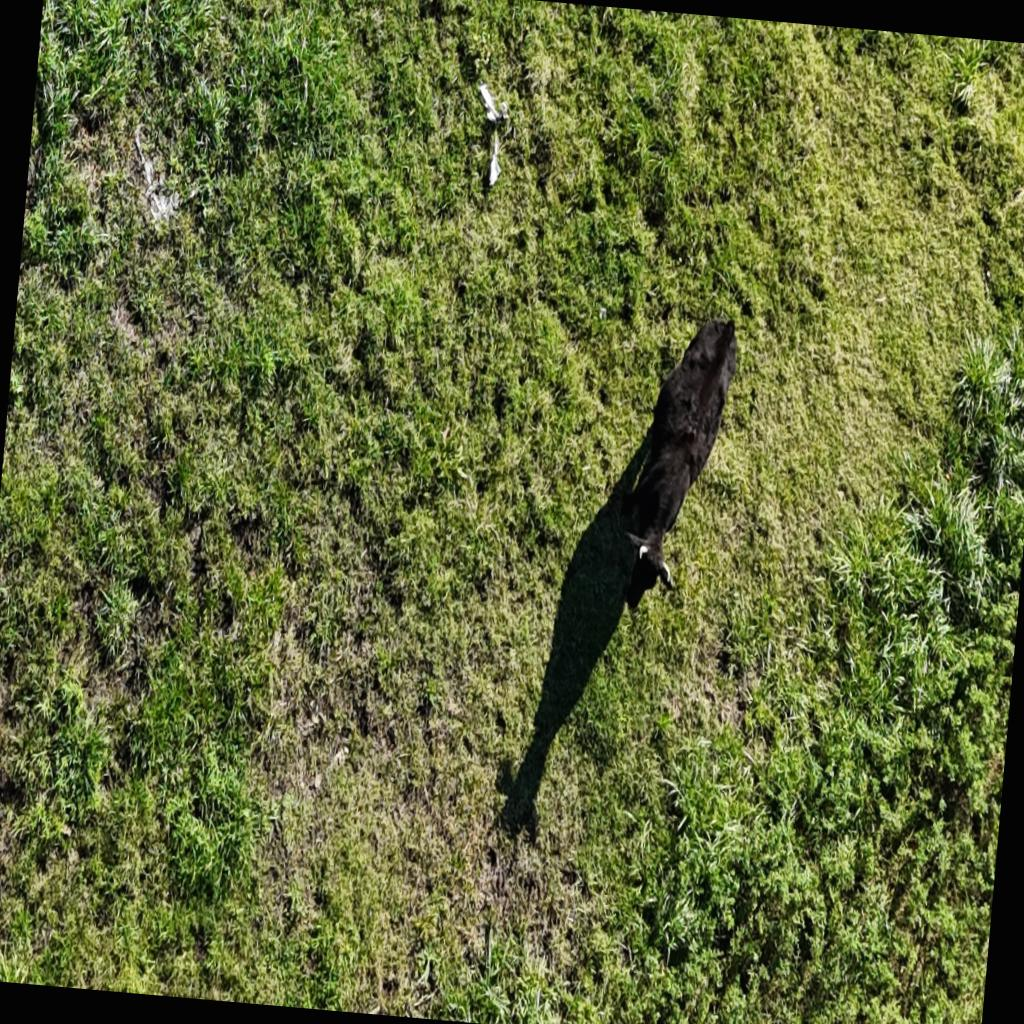cow: (498, 278, 750, 844), (612, 308, 742, 610)
